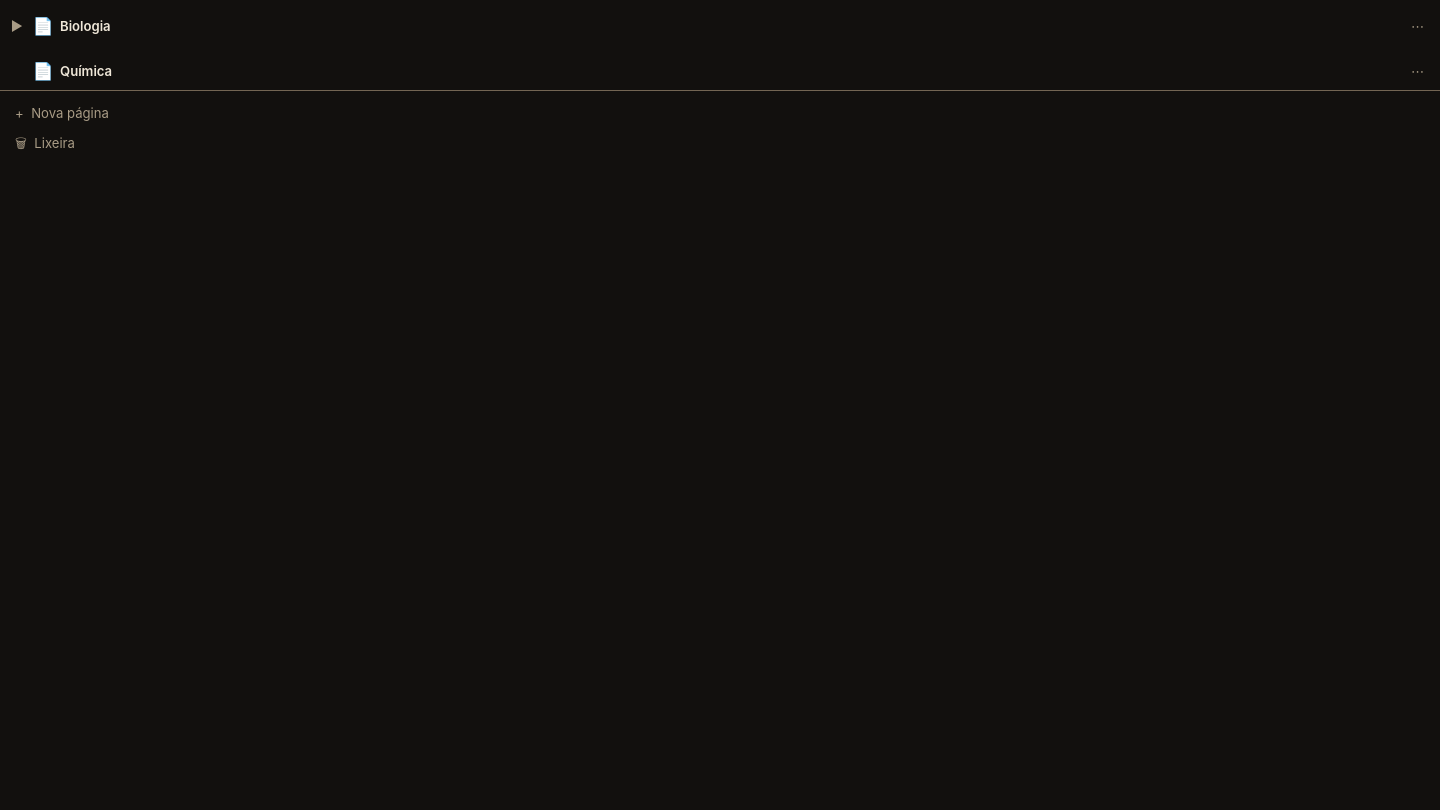
Scenario: PageTree › FUN-022: 'Mover para...' abre o diálogo de busca com Química já excluída dos alvos
The image size is (1440, 810).
Click the button named "Mais ações para Química": (1418, 71) top-left (1406, 60), bottom-right (1429, 82)
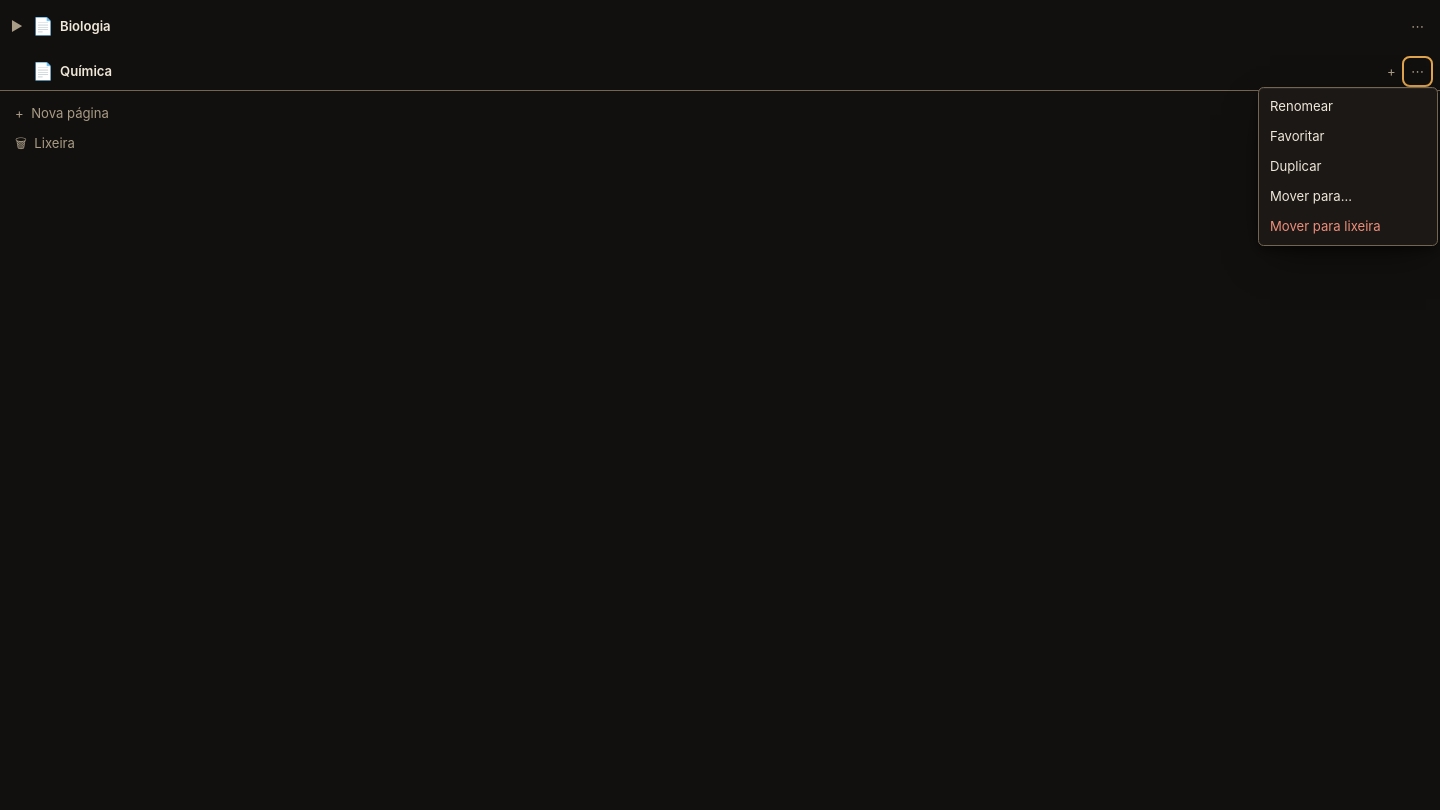
Click the menu item "Mover para...": (1348, 196) top-left (1262, 181), bottom-right (1433, 211)
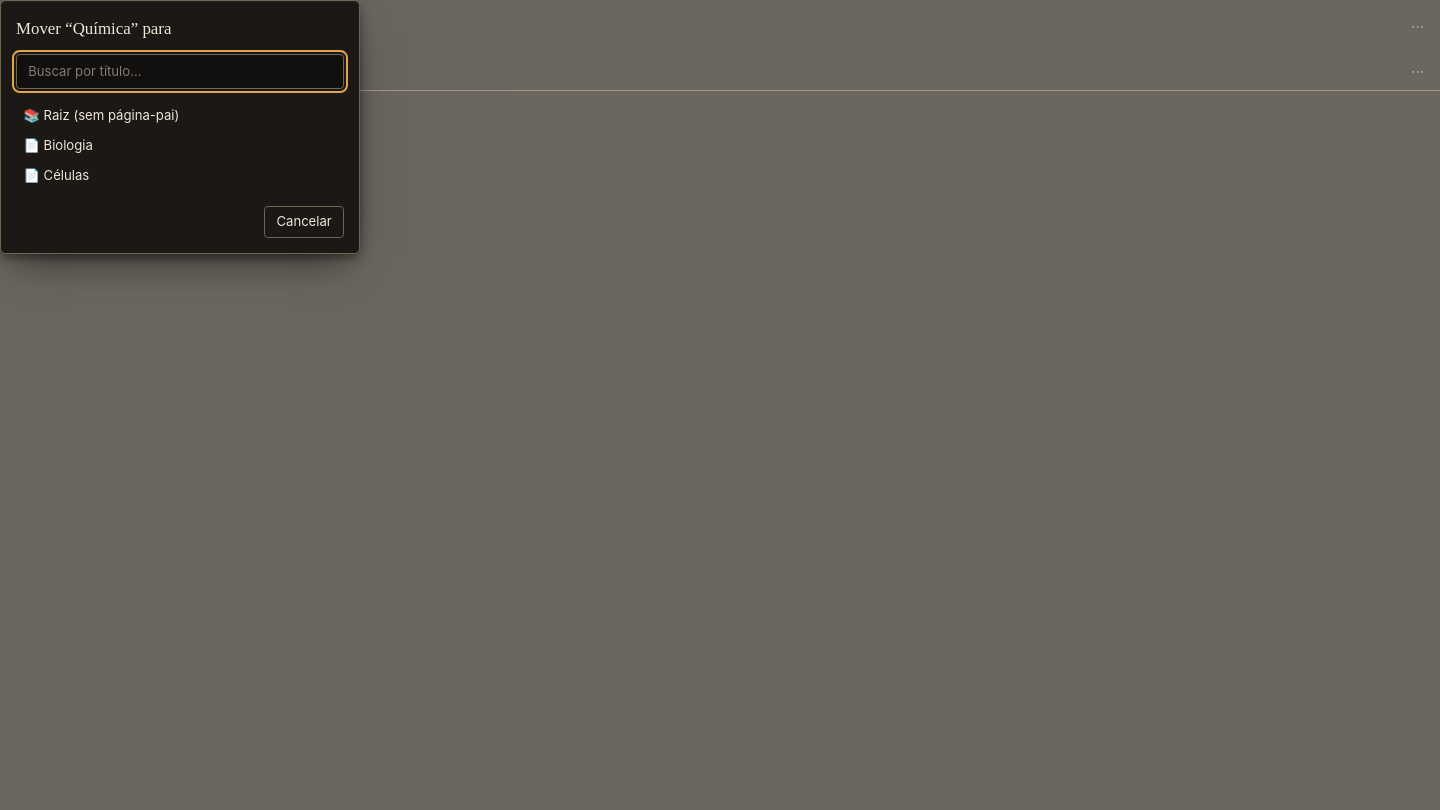
Result: the heading "Mover “Química” para" is shown at top-left (16, 19), bottom-right (171, 38)
Result: the option "📄 Biologia" is shown
Click the option "📄 Biologia": (68, 145) top-left (16, 130), bottom-right (344, 160)
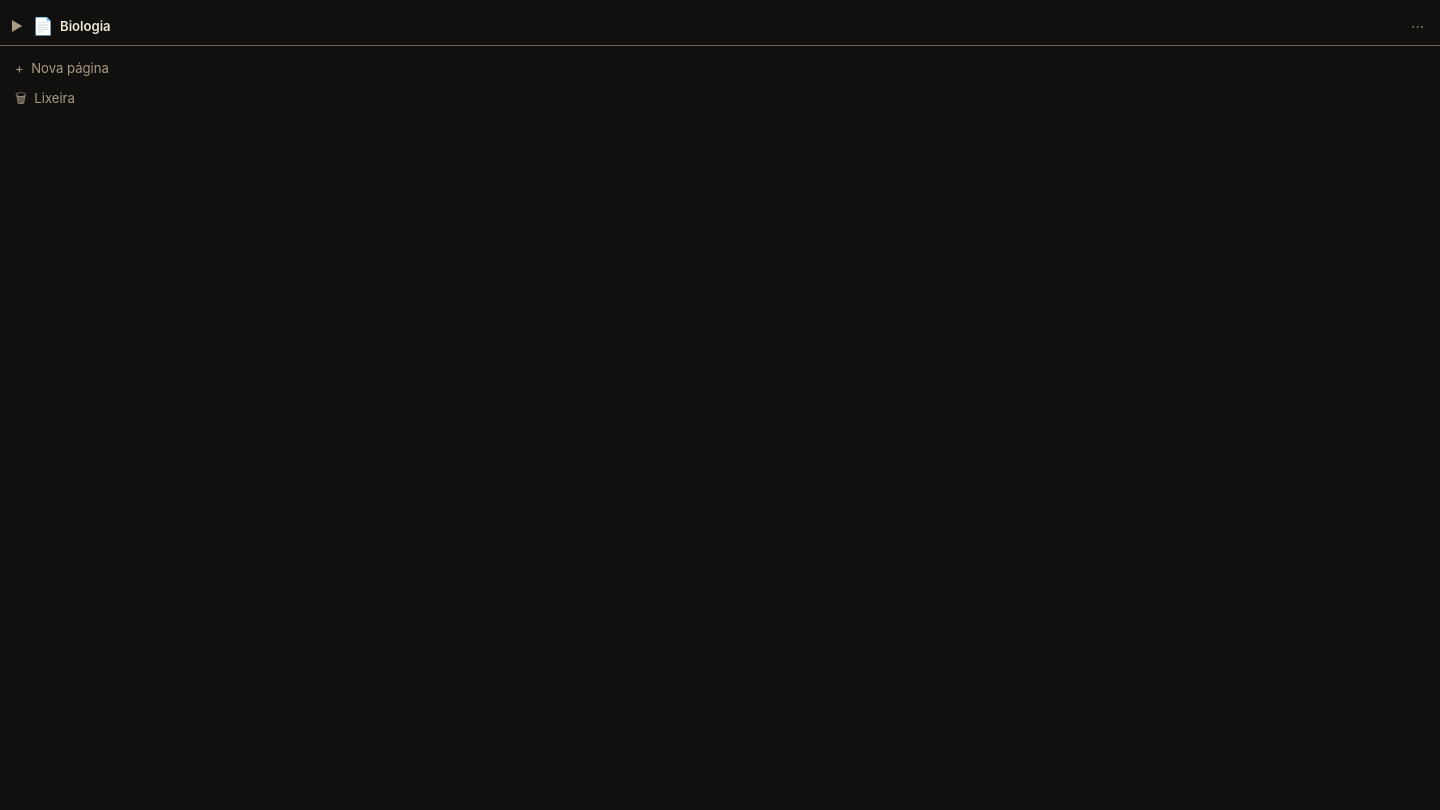
Result: the button "Química" is gone
